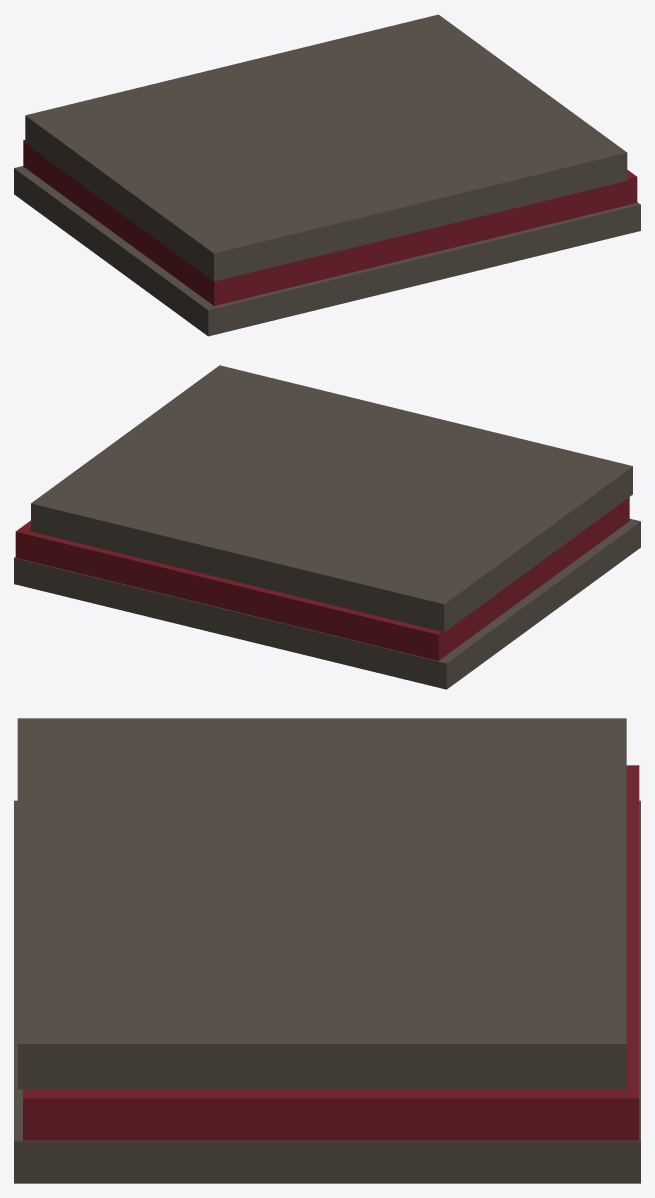
File: folded-blanket.glb
3 renders of one model, top to bottom at view 1: azimuth 30°, elevation 25°; view 2: azimuth 150°, elevation 25°; view 3: azimuth 270°, elevation 25°, orthographic. The views are drawn at different scales.
Visible parts, largest first — view 1: fabric, accent-crimson; view 2: fabric, accent-crimson; view 3: fabric, accent-crimson.
Part boxes in pixels (bbox=[...]): fabric: bbox=[14, 14, 640, 336]; accent-crimson: bbox=[23, 140, 637, 305]; fabric: bbox=[14, 365, 640, 689]; accent-crimson: bbox=[15, 497, 629, 660]; fabric: bbox=[14, 718, 640, 1183]; accent-crimson: bbox=[23, 765, 639, 1140].
Bounding box in the file's own units: 0.45 × 0.08 × 0.35.
